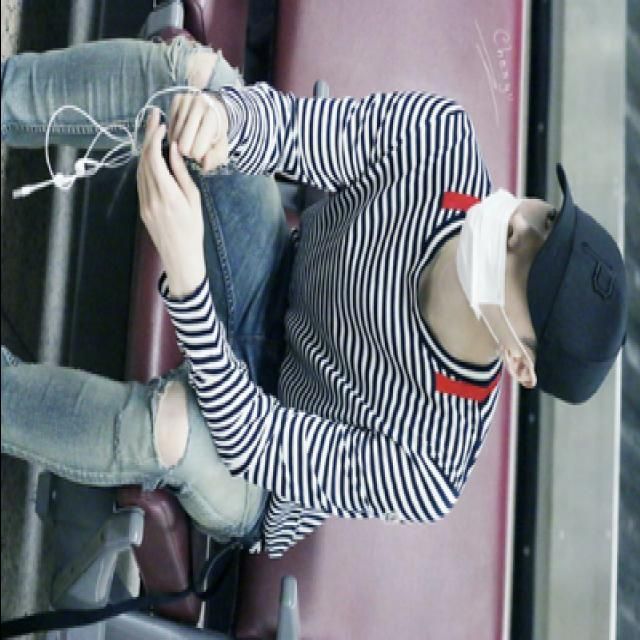mask_weared_incorrect: (458, 194, 558, 336)
